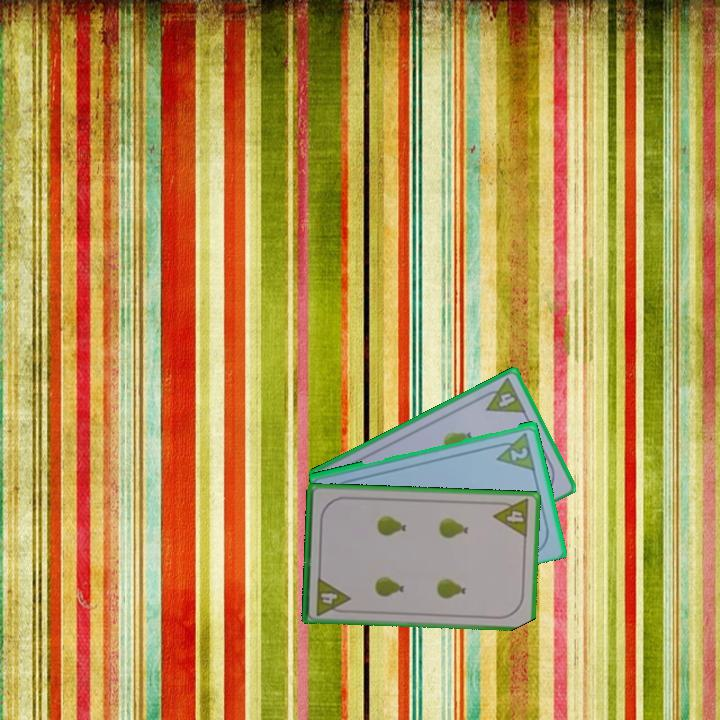2p: (507, 443, 531, 463)
4p: (477, 374, 529, 416), (490, 496, 532, 540), (312, 574, 352, 618)
